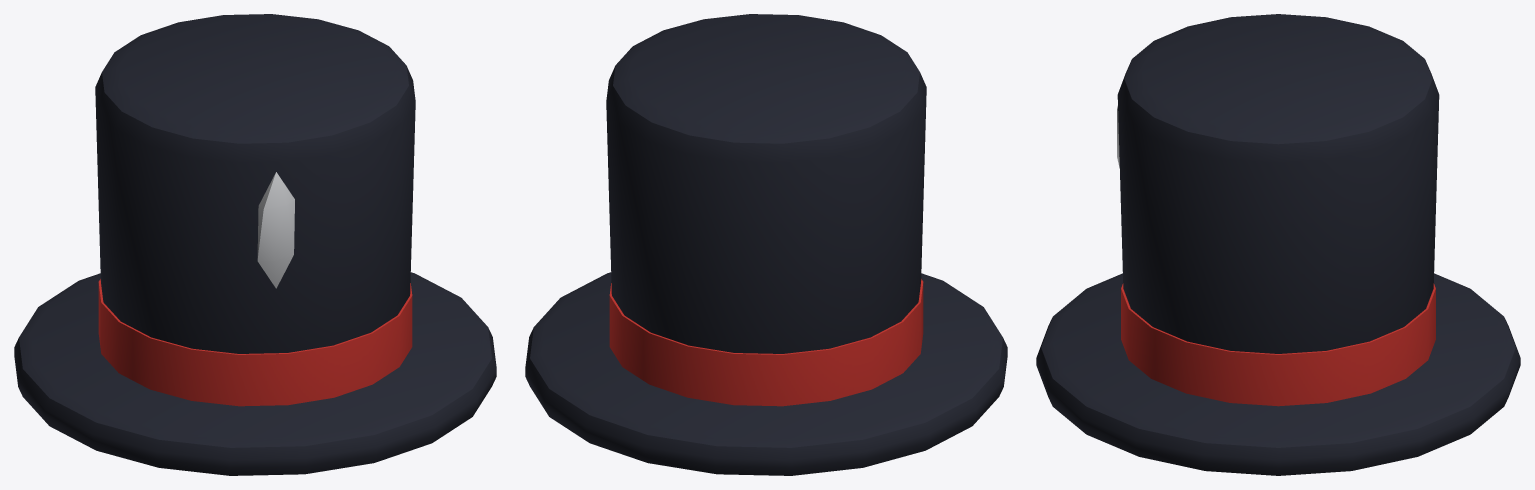
The model's file is lo_hat_zylinder.glb.
3 views of the same model, side by side, from view 1: azimuth 30°, elevation 25°; view 2: azimuth 150°, elevation 25°; view 3: azimuth 270°, elevation 25° (orthographic).
Parts seen in each view (by area): view 1: body; view 2: body; view 3: body.
Boxes of the visible parts, x1,y1,x2,y2 form: body: (14, 14, 496, 475); body: (525, 14, 1007, 475); body: (1036, 14, 1520, 475).
Size of the model in its own units: 0.6 by 0.42 by 0.6.
